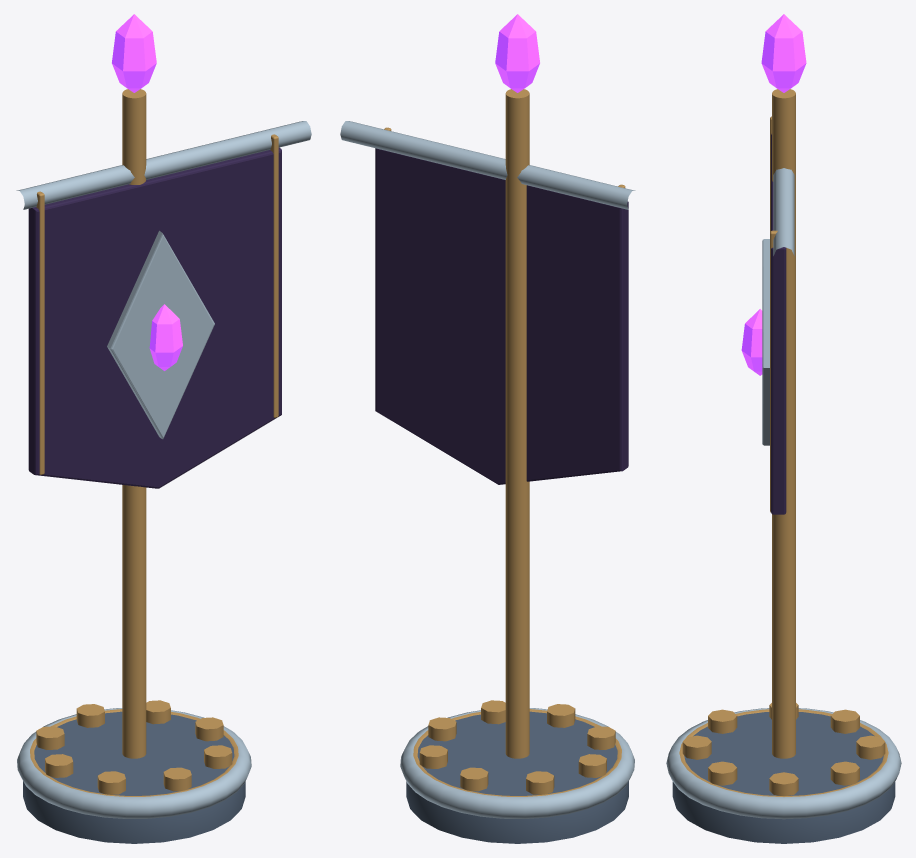
Rendered from moonsteel-convergence-lunar-war-standard-ed9502ca__18199.glb.
3 views of the same model, side by side, from view 1: azimuth 30°, elevation 25°; view 2: azimuth 150°, elevation 25°; view 3: azimuth 270°, elevation 25° (orthographic).
Visible parts, largest first — view 1: lunar-war-standard; view 2: lunar-war-standard; view 3: lunar-war-standard.
Boxes of the visible parts, x1,y1,x2,y2 form: lunar-war-standard: (16, 14, 311, 843); lunar-war-standard: (340, 14, 635, 843); lunar-war-standard: (666, 14, 901, 843).
Size of the model in its own units: 1.25 by 3.26 by 0.888.
